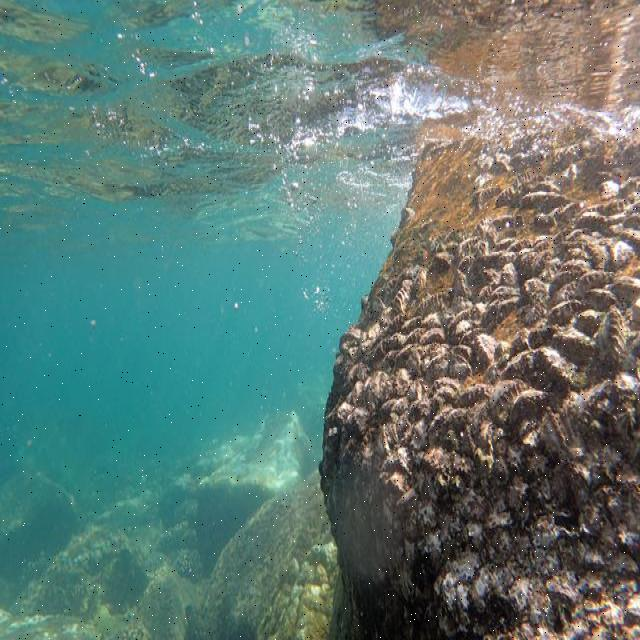sea-floor: (318, 107, 639, 639), (0, 411, 333, 639)
